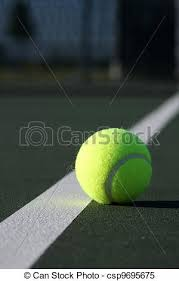tennis_ball: (74, 127, 153, 206)
